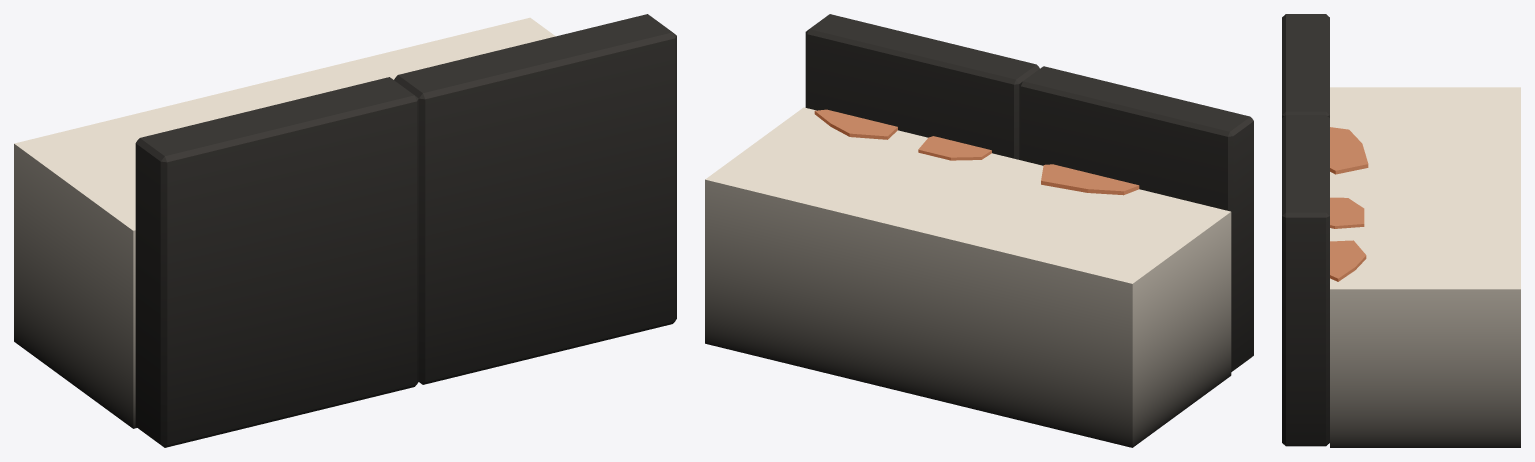
Rendered from SM_VKI_Ground_Lava_OOXX.fbx.
3 views of the same model, side by side, from view 1: azimuth 30°, elevation 25°; view 2: azimuth 150°, elevation 25°; view 3: azimuth 270°, elevation 25° (orthographic). The views are drawn at different scales.
Visible parts, largest first — view 1: SM_VKI_Ground_Lava_OOXX.001; view 2: SM_VKI_Ground_Lava_OOXX.001; view 3: SM_VKI_Ground_Lava_OOXX.001.
Part boxes in pixels (left/top/right/bottom): SM_VKI_Ground_Lava_OOXX.001: left=14, top=14, right=676, bottom=447; SM_VKI_Ground_Lava_OOXX.001: left=705, top=14, right=1253, bottom=447; SM_VKI_Ground_Lava_OOXX.001: left=1282, top=14, right=1520, bottom=447.
Size of the model in its own units: 1.5 by 0.81 by 0.75.
